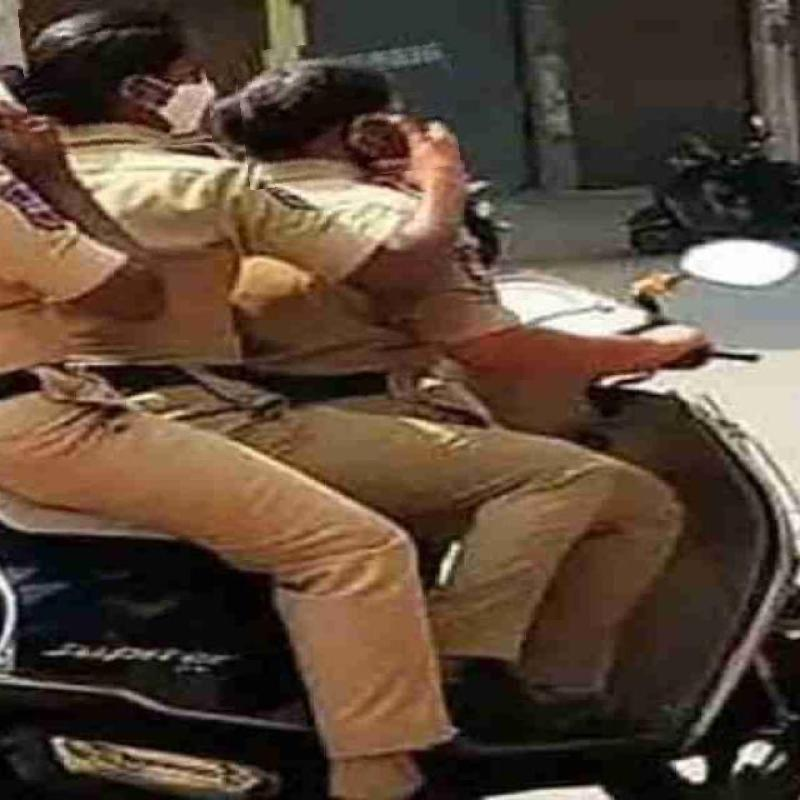nohelmet: (238, 34, 458, 184), (20, 0, 209, 152)
